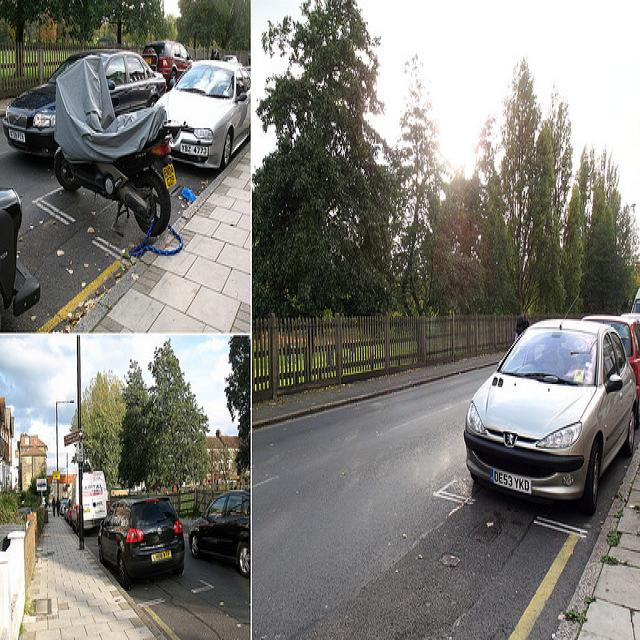motor: (53, 53, 178, 241)
